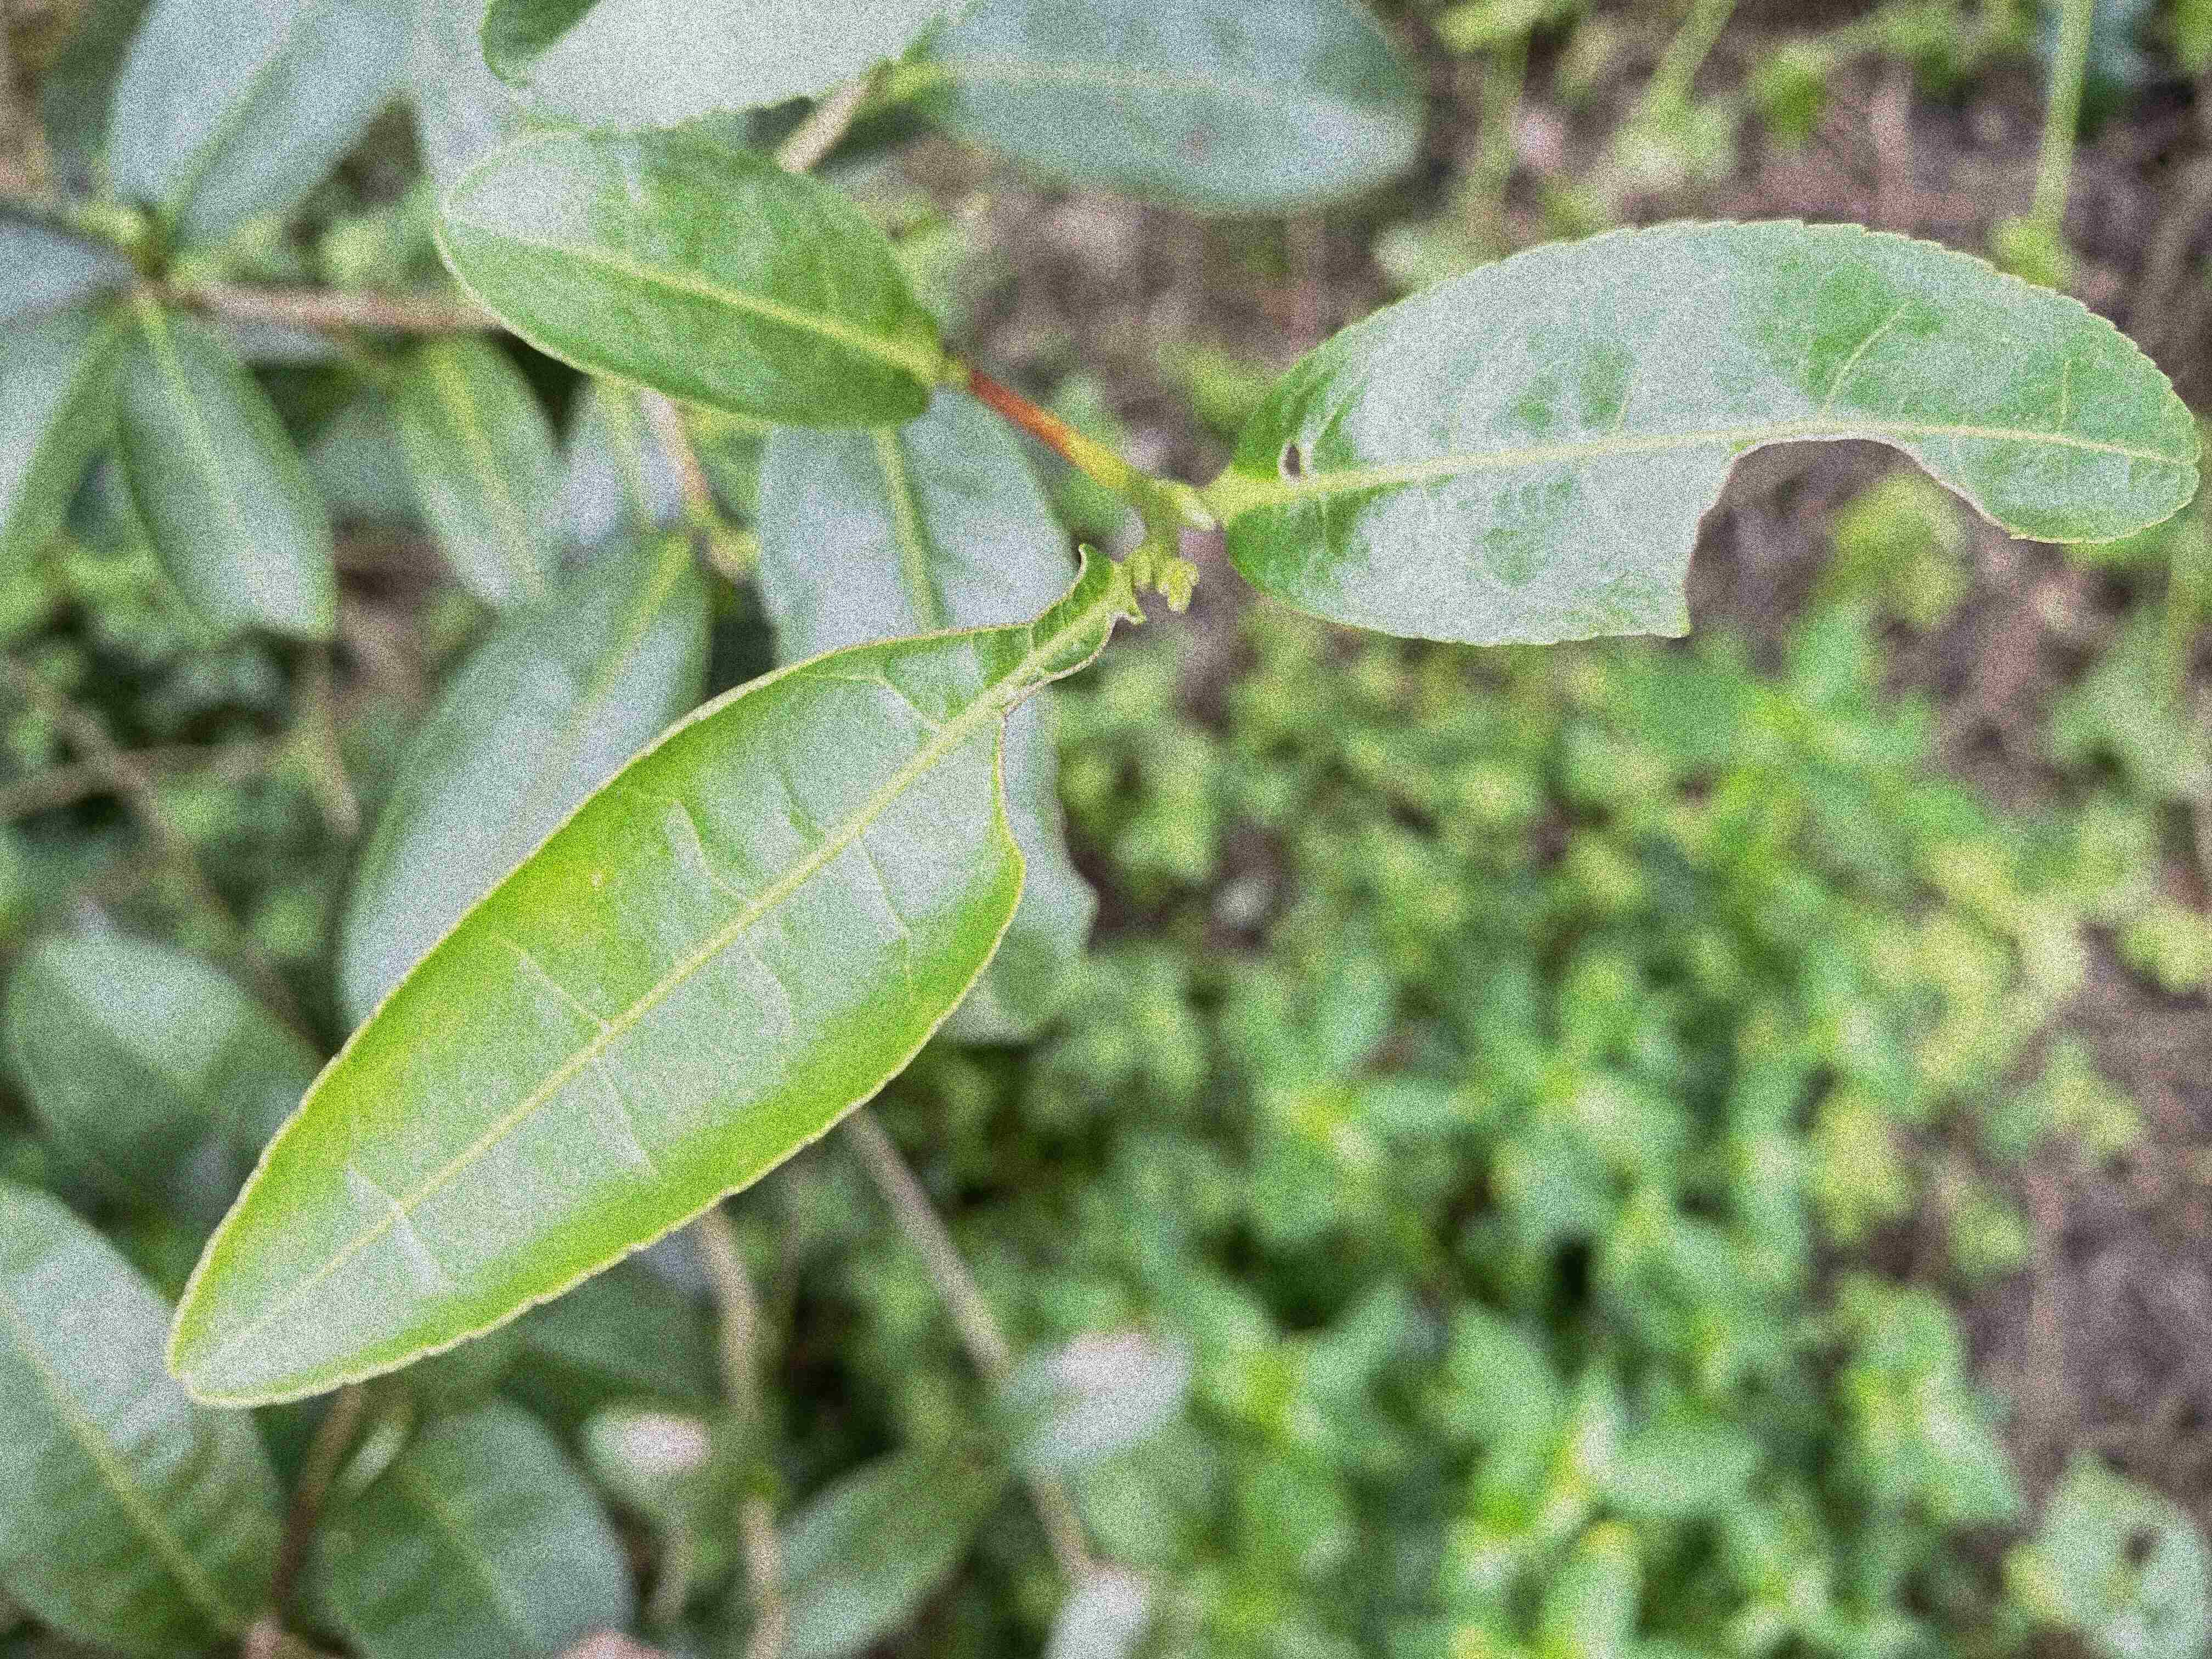chihuo_high: (164, 542, 1144, 1410), (1212, 216, 2203, 647)
healthy: (432, 131, 944, 432)
